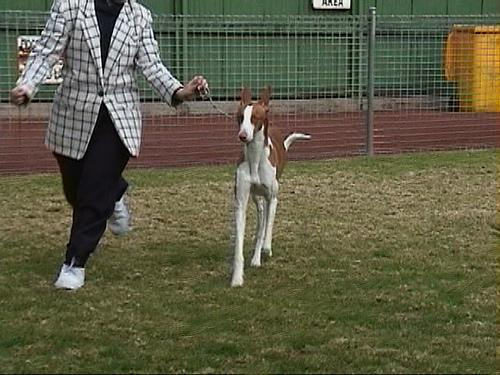Ibizan_hound: (228, 84, 313, 289)
